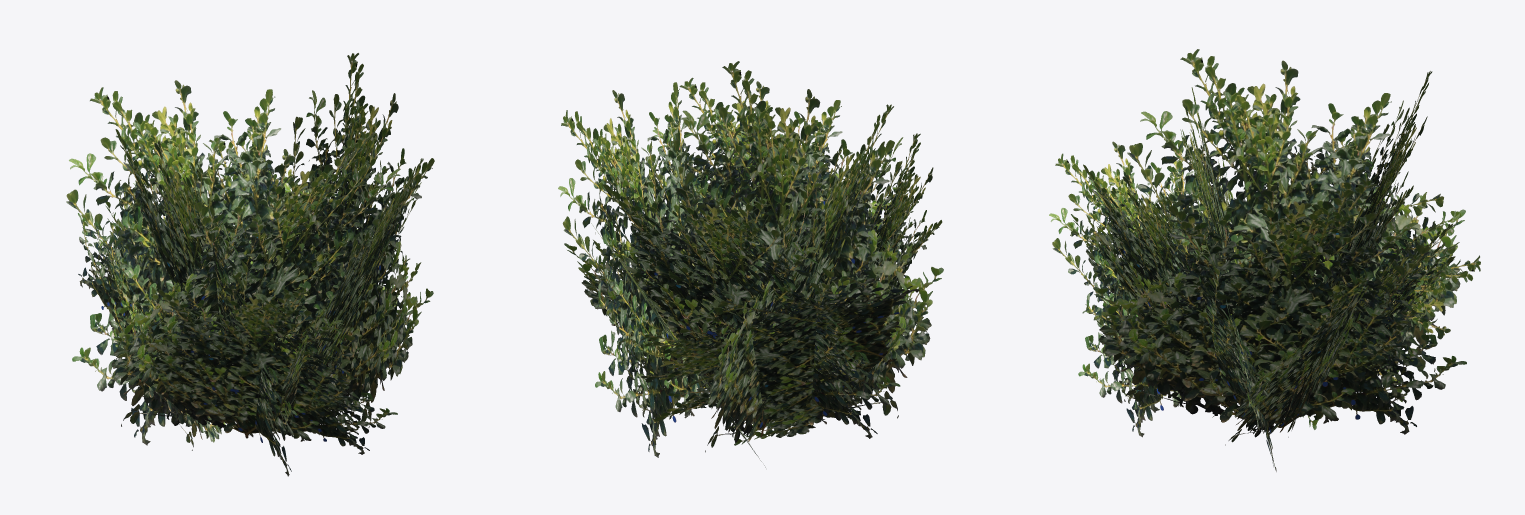
Rendered from With_Blueberry.fbx.
3 renders of one model, left to right at view 1: azimuth 30°, elevation 25°; view 2: azimuth 150°, elevation 25°; view 3: azimuth 270°, elevation 25°, orthographic. The views are drawn at different scales.
Visible parts, largest first — view 1: With_BlueBerry; view 2: With_BlueBerry; view 3: With_BlueBerry.
Part boxes in pixels (x1,y1,x2,y2): With_BlueBerry: (66, 53, 434, 476); With_BlueBerry: (558, 61, 943, 467); With_BlueBerry: (1049, 49, 1480, 471).
Size of the model in its own units: 3.09 by 2.57 by 3.52.
Materials: 1 (1 with a texture image).
